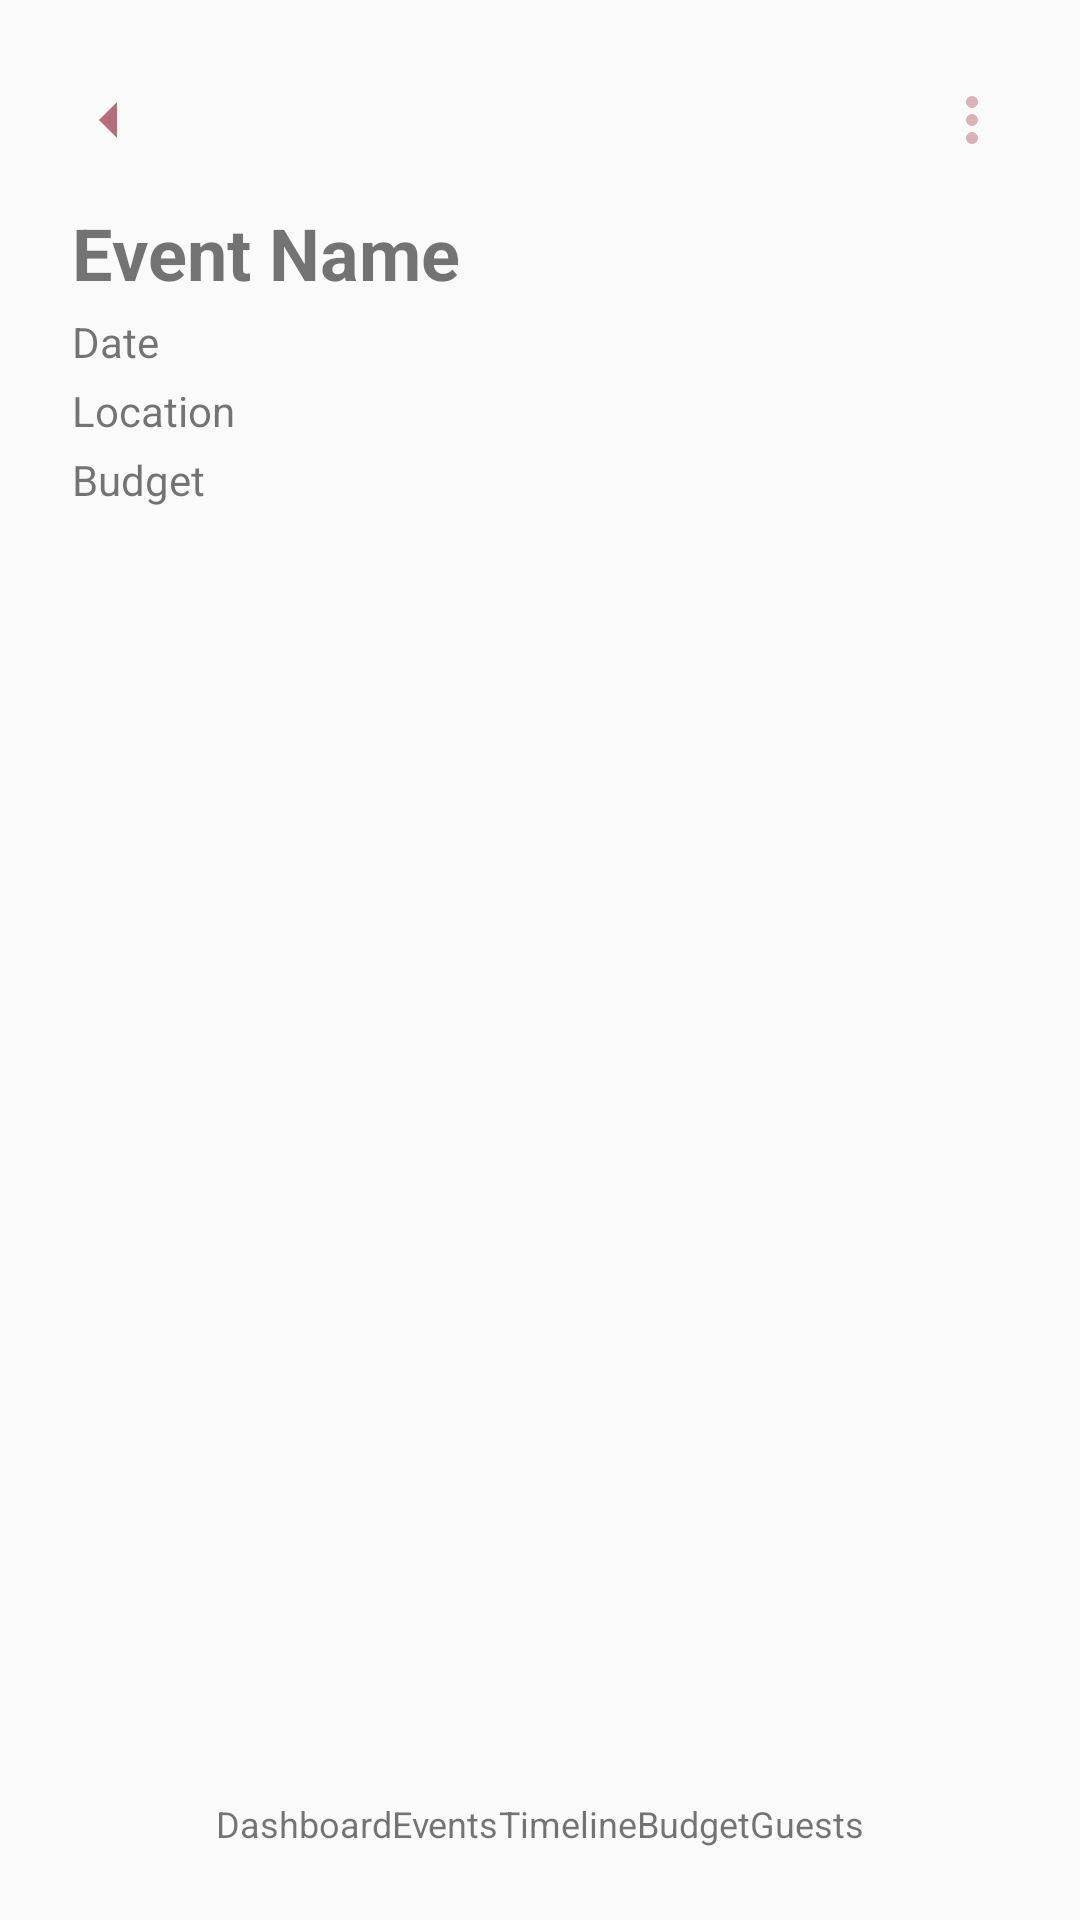

Where icons sit on this 1080*1920 app screen, as [x1, y1, x2, y2]:
Back: [99, 102, 117, 138]
More: [966, 96, 978, 144]
